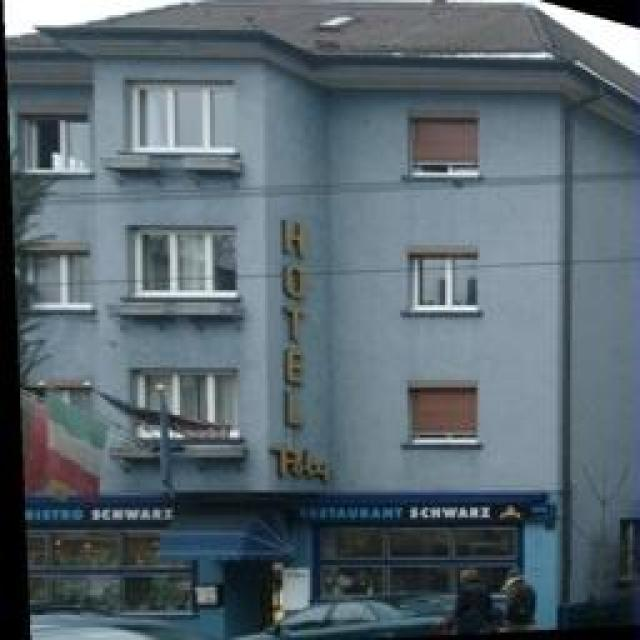building: (0, 20, 638, 640)
